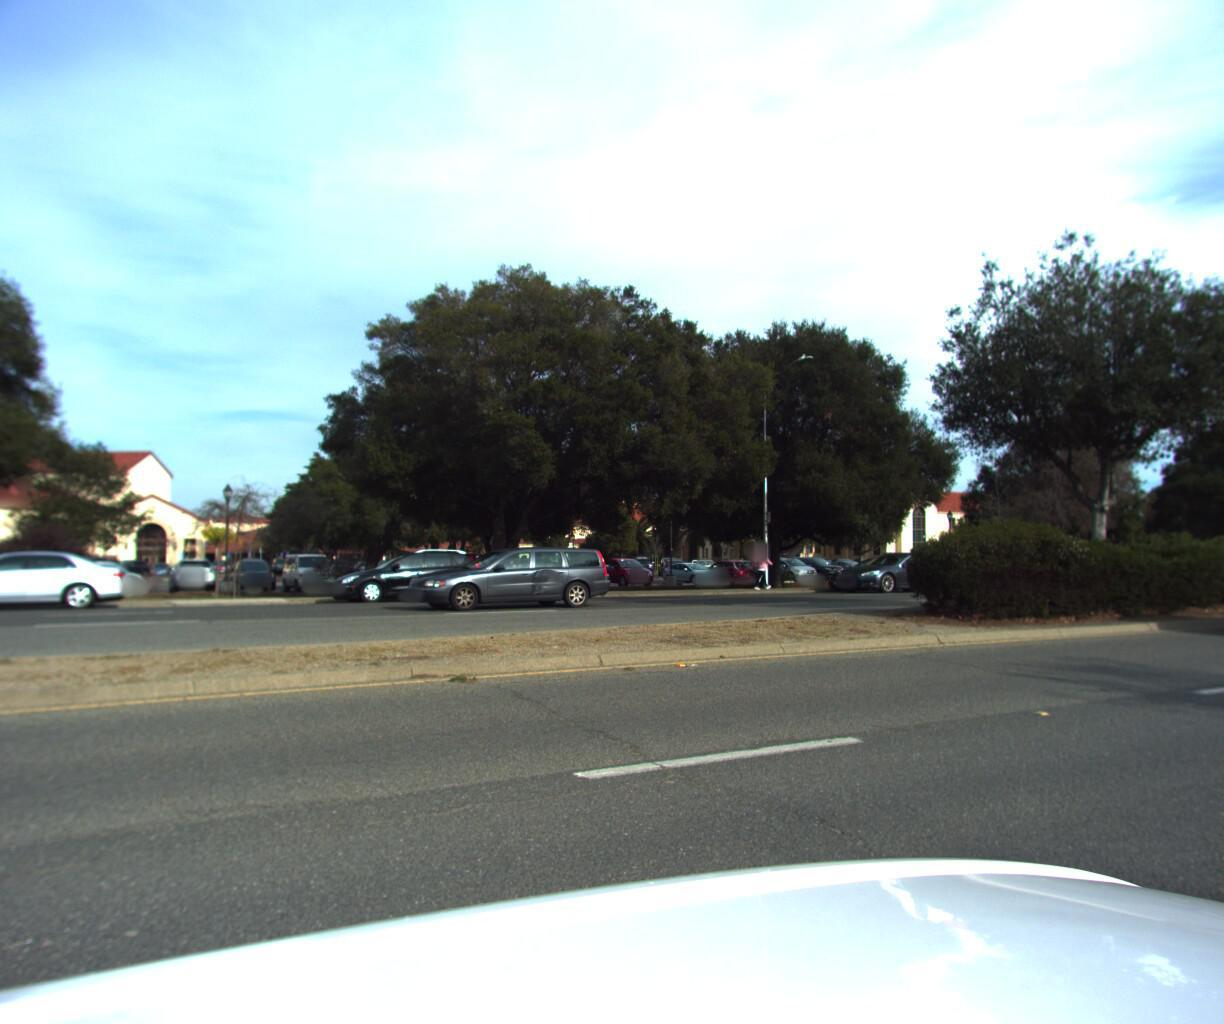car: (399, 541, 615, 613), (318, 543, 491, 608), (0, 549, 133, 619), (829, 546, 964, 591), (816, 551, 938, 594)
